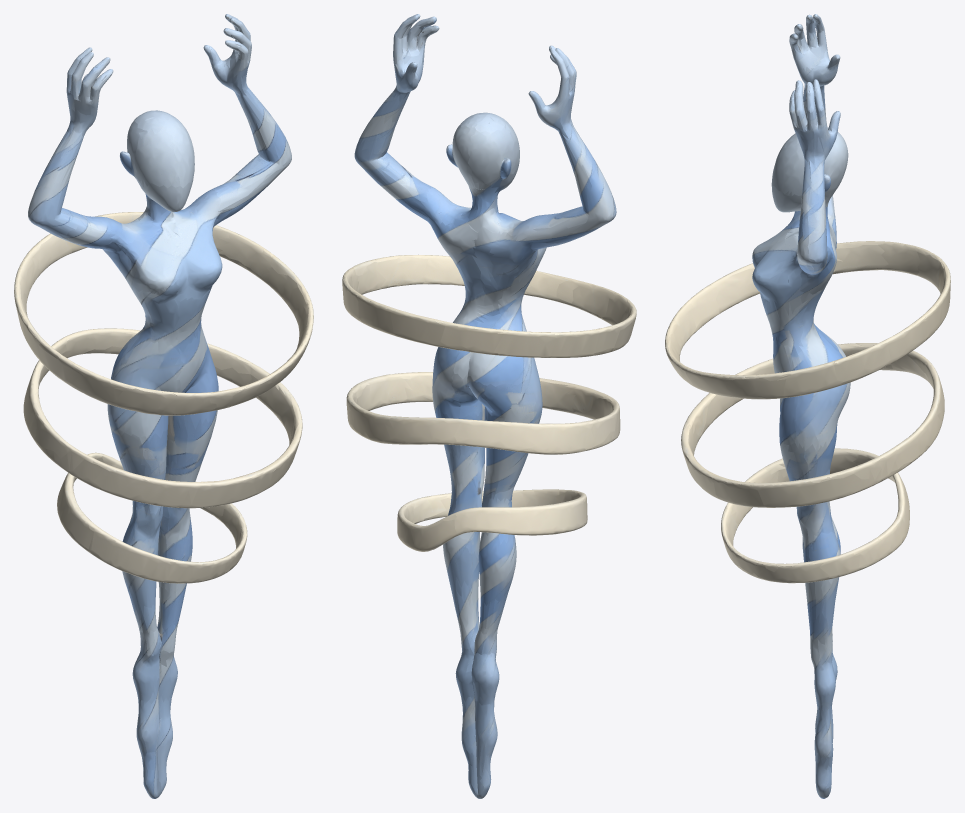
Rendered from hydrogen-crystal.glb.
3 renders of one model, left to right at view 1: azimuth 30°, elevation 25°; view 2: azimuth 150°, elevation 25°; view 3: azimuth 270°, elevation 25°, orthographic. The views are drawn at different scales.
Visible parts, largest first — view 1: Mesh_0; view 2: Mesh_0; view 3: Mesh_0.
Boxes of the visible parts, <box> form: Mesh_0: <box>14,14,313,798</box>; Mesh_0: <box>342,14,636,798</box>; Mesh_0: <box>665,14,950,798</box>.
Size of the model in its own units: 0.6719 by 1.9 by 0.6557.
Materials: 1 (1 with a texture image).
